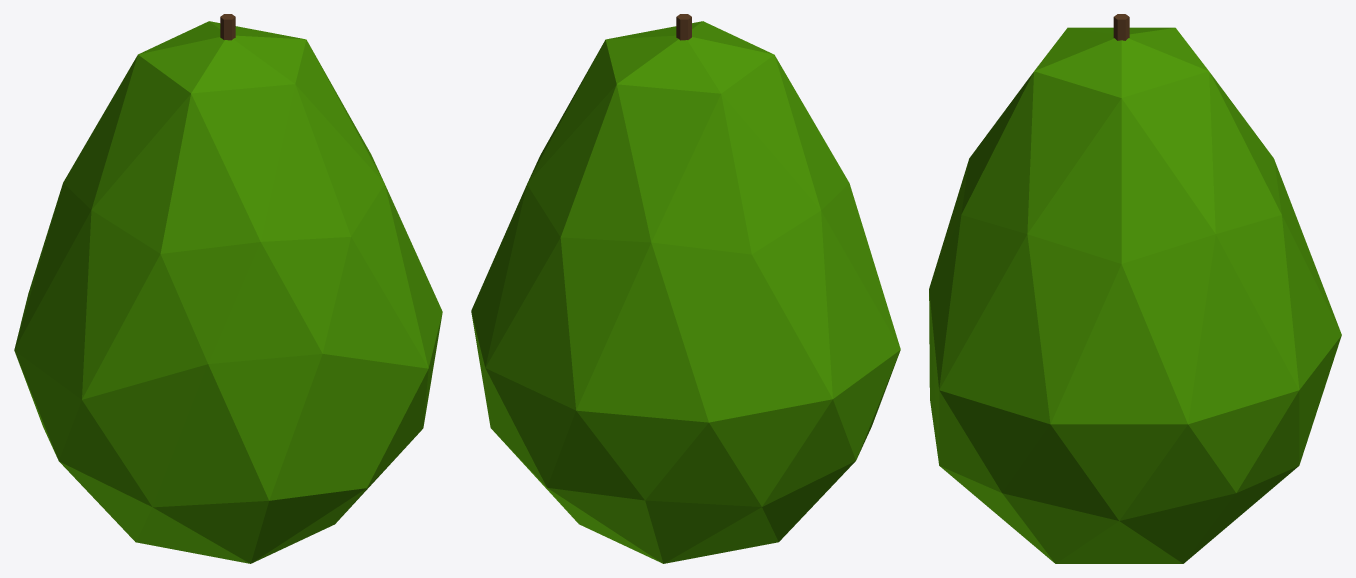
The model's file is avocado.fbx.
The picture shows the model from 3 angles, left to right: view 1: azimuth 30°, elevation 25°; view 2: azimuth 150°, elevation 25°; view 3: azimuth 270°, elevation 25°; orthographic projection.
Parts seen in each view (by area): view 1: avocado; view 2: avocado; view 3: avocado.
Part boxes in pixels (left/top/right/bottom): avocado: left=14, top=21, right=442, bottom=563; avocado: left=471, top=21, right=900, bottom=563; avocado: left=929, top=27, right=1341, bottom=563.
Bounding box in the file's own units: 1.58 × 2.22 × 1.54.
